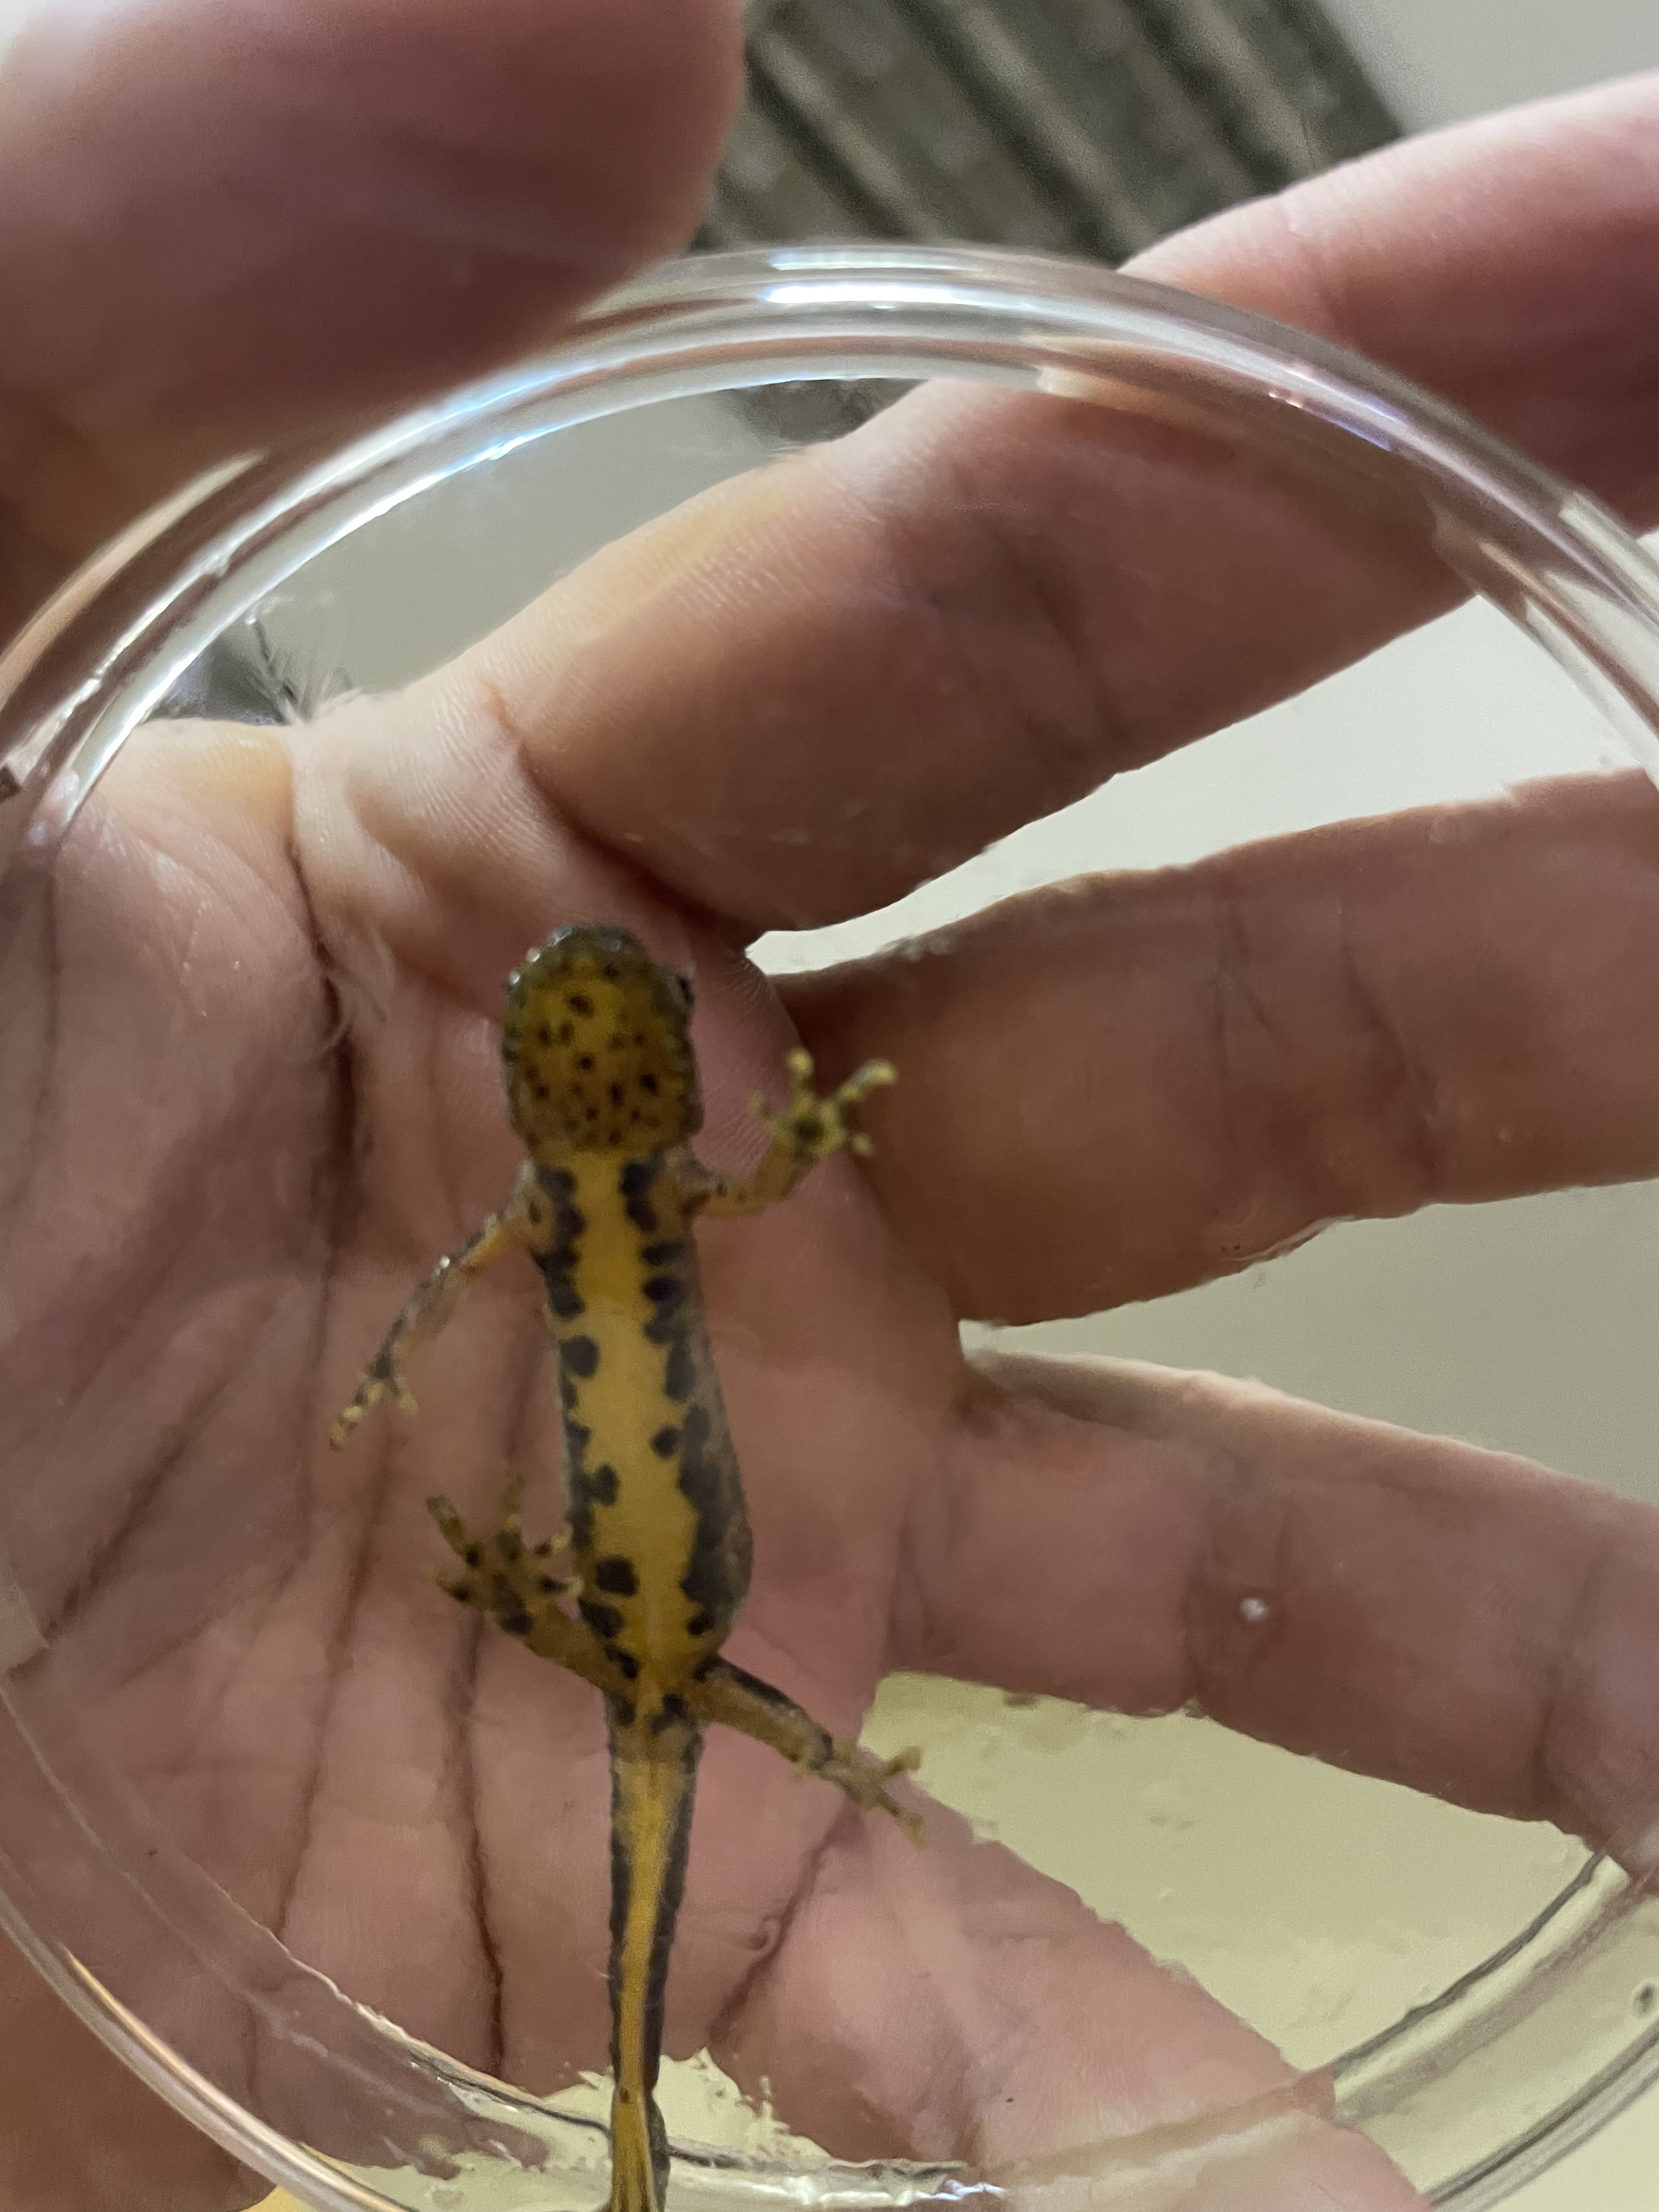Karelin_newt: (523, 1217, 755, 1656)
